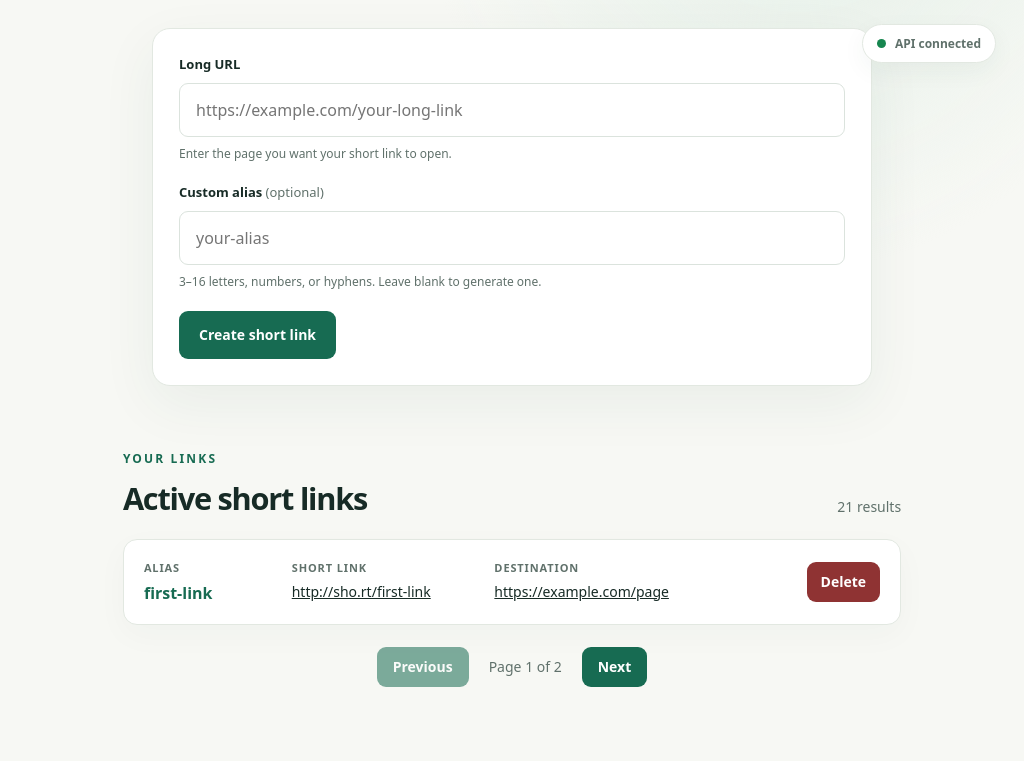
Test: Home link workspace › returns to page one after creation while viewing page two
The image size is (1024, 761).
(page scrolled)
Expected: the text "first-link" is shown, [144,582,212,604]
Click the button "Next" at [614, 667], box [582,647,647,687]
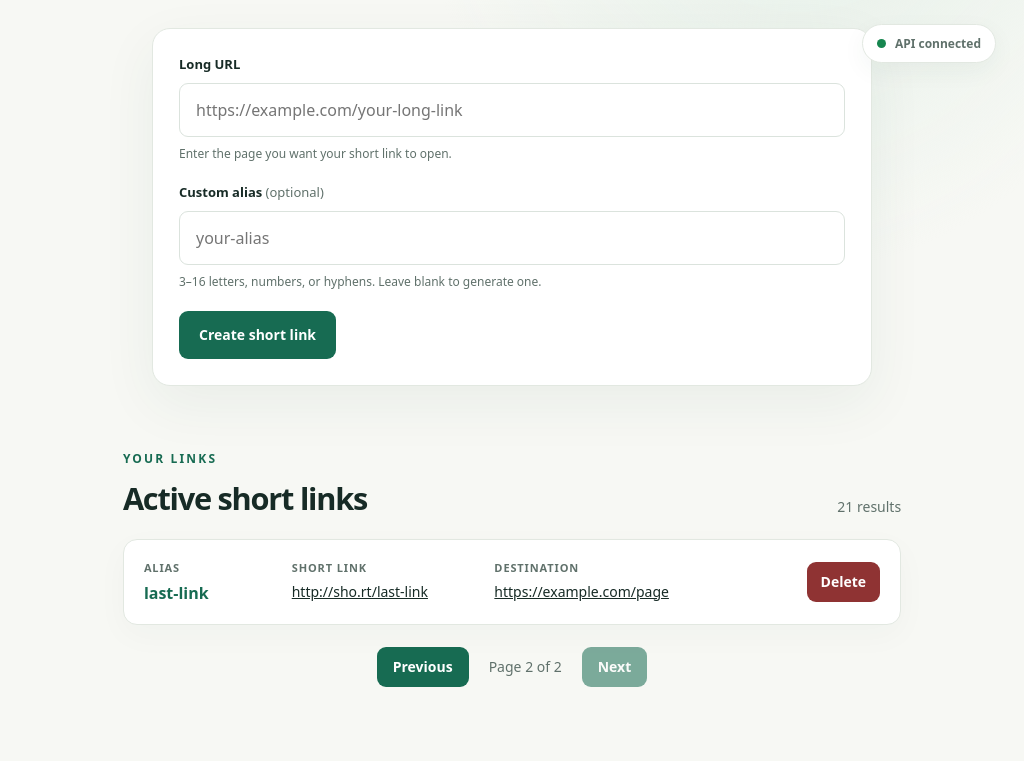
Expected: the text "Page 2 of 2" is shown, [489,657,562,676]
Type "https://example.com/new" into the field labelled "Long URL" at [512, 110], box [179,83,845,137]
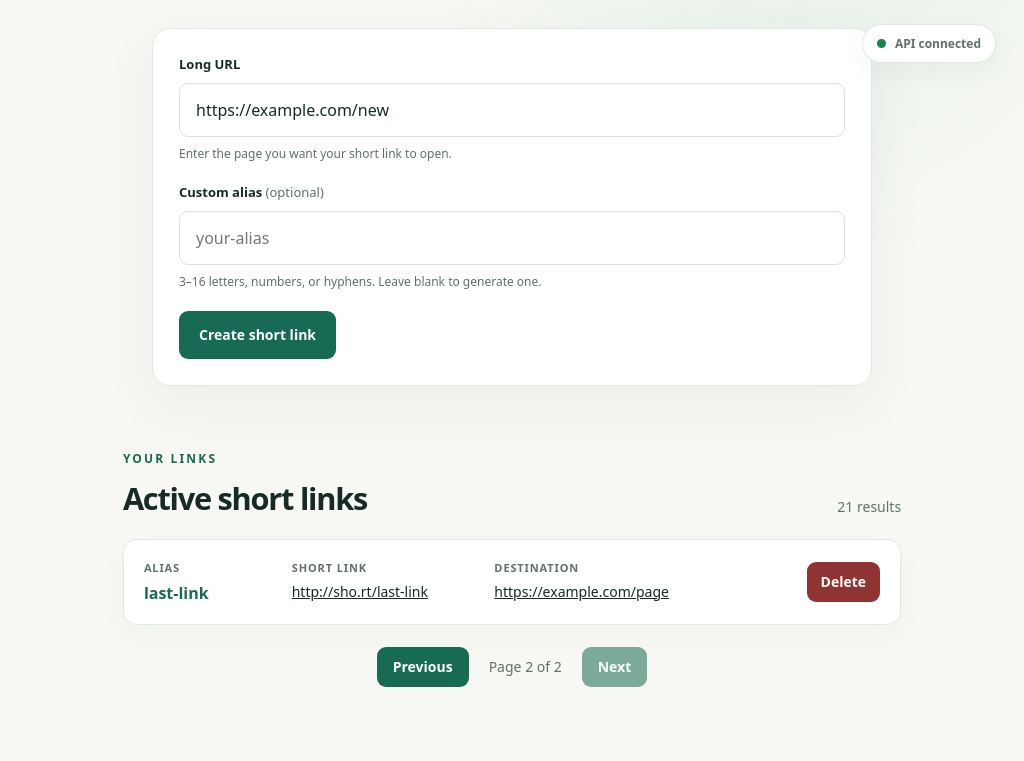
Click the button "Create short link" at [258, 335], box [179,311,336,359]
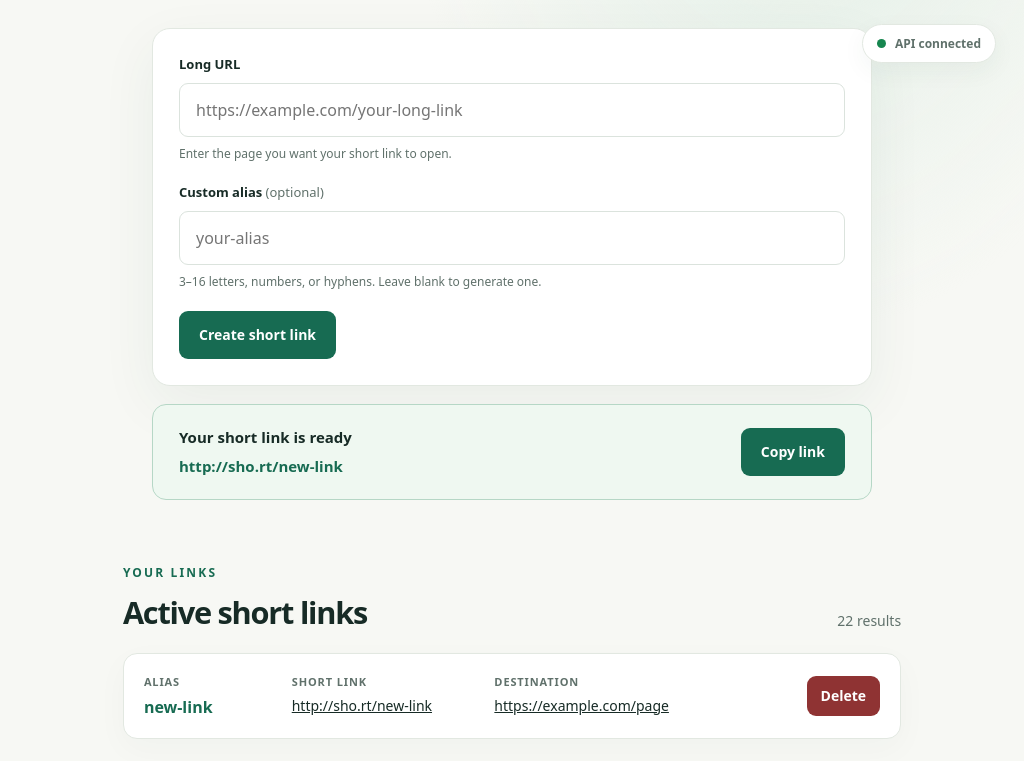
Expected: the text "new-link" is shown, [144,696,213,718]
Expected: the text "22 results" is shown, [837,611,901,630]
Expected: the text "last-link" is gone
